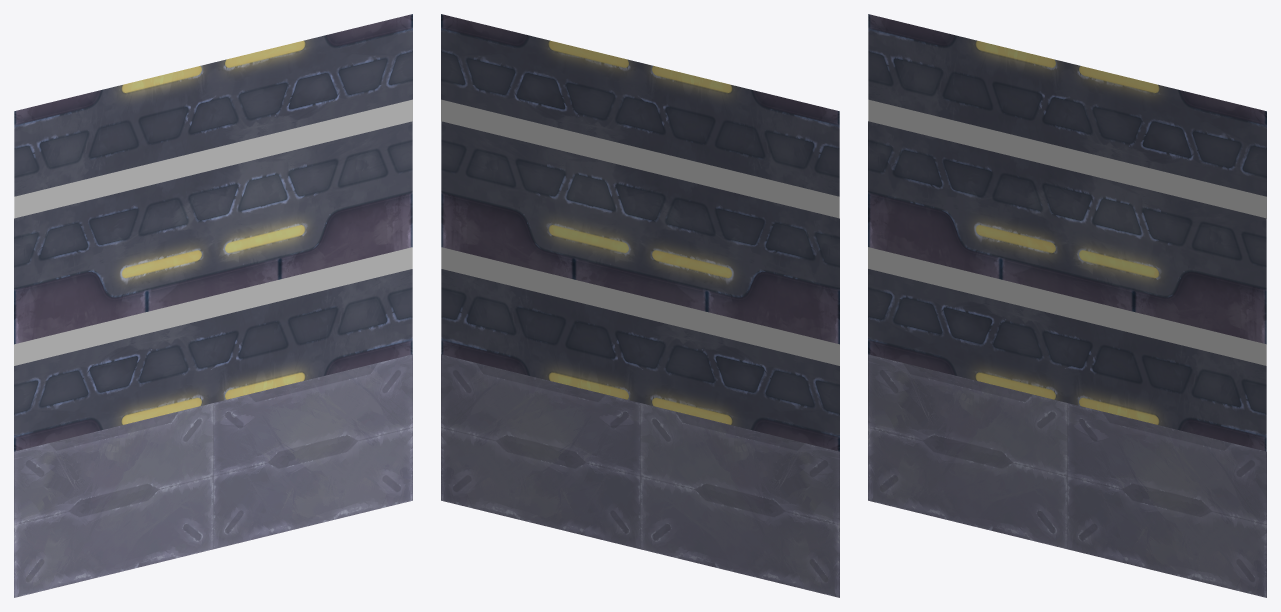
File: SM_TrimWall_06.fbx
3 renders of one model, left to right at view 1: azimuth 30°, elevation 25°; view 2: azimuth 150°, elevation 25°; view 3: azimuth 330°, elevation 25°, orthographic.
Parts seen in each view (by area): view 1: SM_TrimWall_06; view 2: SM_TrimWall_06; view 3: SM_TrimWall_06.
Part boxes in pixels (x1=…): SM_TrimWall_06: x1=14, y1=14, x2=412, y2=597; SM_TrimWall_06: x1=441, y1=14, x2=839, y2=597; SM_TrimWall_06: x1=868, y1=14, x2=1266, y2=597.
Size of the model in its own units: 600 by 700 by 0.
